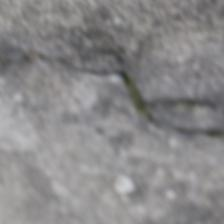Crack: (67, 58, 220, 141)
